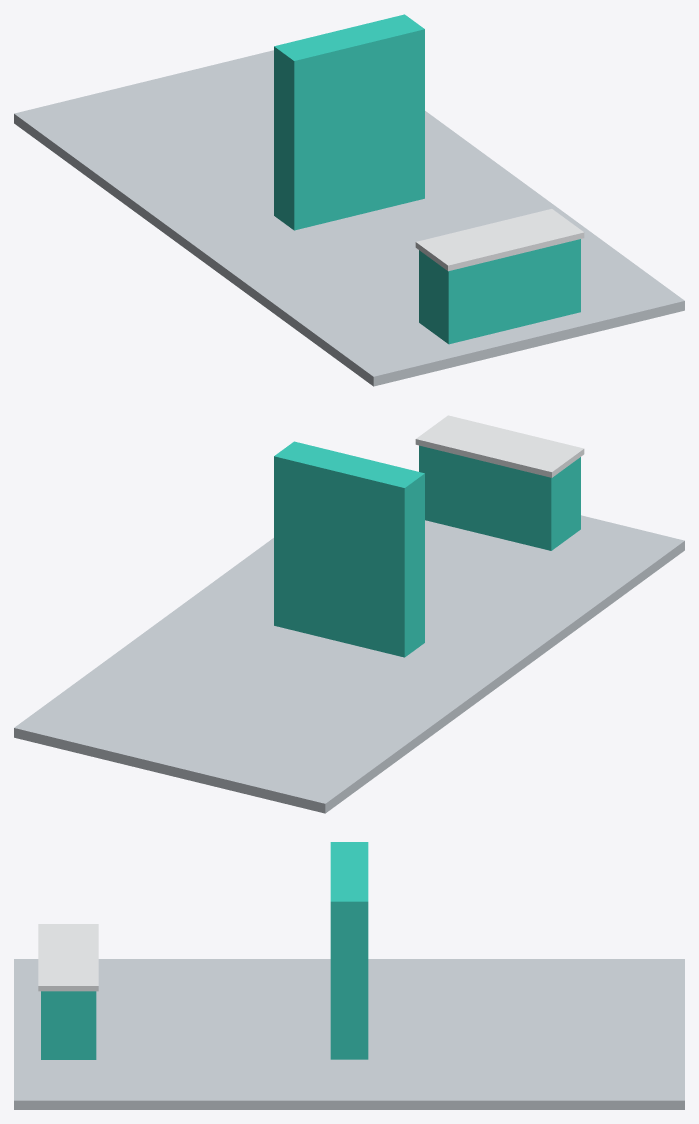
3 renders of one model, top to bottom at view 1: azimuth 30°, elevation 25°; view 2: azimuth 150°, elevation 25°; view 3: azimuth 270°, elevation 25°, orthographic. The views are drawn at different scales.
Visible parts, largest first — view 1: Exhibition Booth Concept; view 2: Exhibition Booth Concept; view 3: Exhibition Booth Concept.
Boxes of the visible parts, x1,y1,x2,y2 form: Exhibition Booth Concept: (14, 14, 684, 386); Exhibition Booth Concept: (14, 415, 684, 813); Exhibition Booth Concept: (14, 842, 684, 1109).
Size of the model in its own units: 4 by 2.2 by 8.
